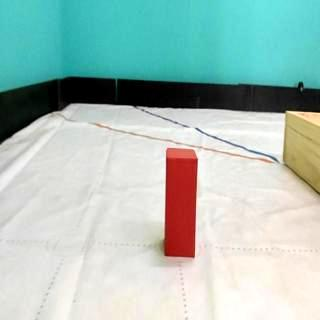redbox: (166, 147, 196, 258)
